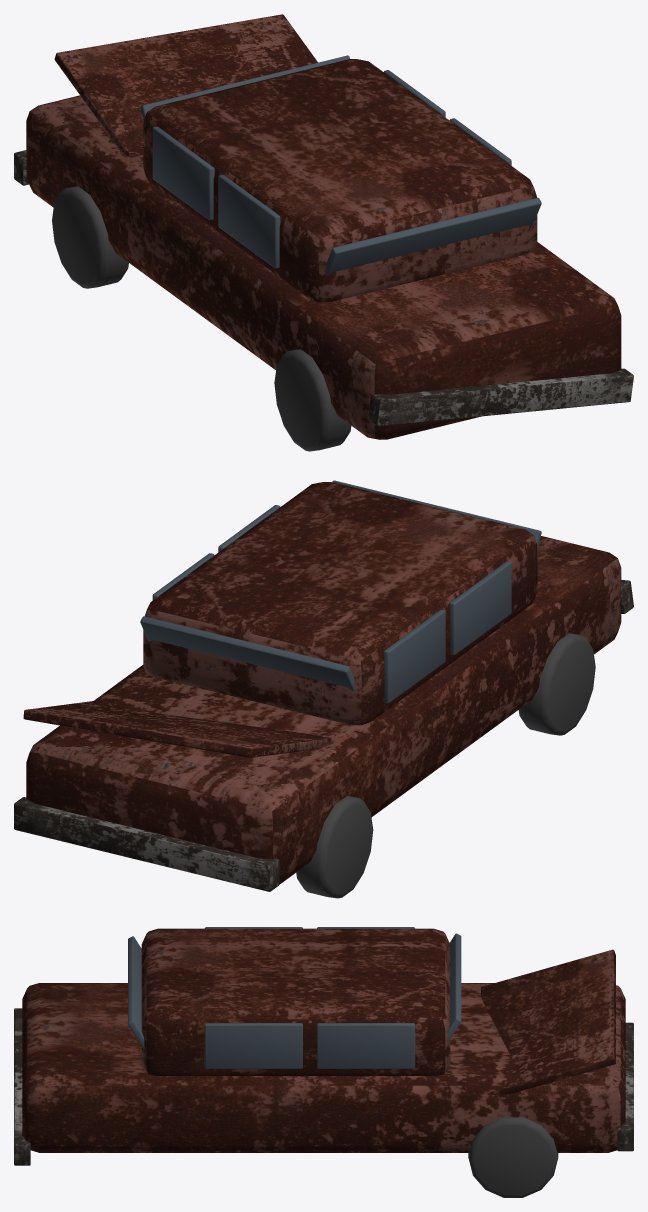
Rendered from prop_car_wreck.glb.
3 renders of one model, top to bottom at view 1: azimuth 30°, elevation 25°; view 2: azimuth 150°, elevation 25°; view 3: azimuth 270°, elevation 25°, orthographic. The views are drawn at different scales.
Parts seen in each view (by area): view 1: Body, Cabin, Hood, BumperR, RearWindow, Tire.002, Tire, SideWin, SideWin.002, Windshield; view 2: Body, Cabin, BumperF, Hood, Tire.002, Tire, Windshield, SideWin, SideWin.002, RearWindow; view 3: Body, Cabin, Hood, Tire.001, SideWin.001, SideWin.003, BumperR, RearWindow, BumperF, Windshield.
Part boxes in pixels (x1,y1,x2,y2): Body: (26,95,621,439); Cabin: (143,59,537,302); Hood: (54,14,317,157); BumperR: (368,368,633,426); RearWindow: (326,198,541,276); Tire.002: (274,349,351,451); Tire: (52,186,128,288); SideWin: (218,174,280,268); SideWin.002: (152,126,214,220); Windshield: (140,55,349,120); Body: (26,536,621,884); Cabin: (143,482,537,725); BumperF: (14,797,279,891); Hood: (23,701,331,757); Tire.002: (518,633,595,735); Tire: (296,796,373,898); Windshield: (140,616,354,691); SideWin: (449,561,511,655); SideWin.002: (383,609,445,703); RearWindow: (332,480,541,548); Body: (22,983,625,1152); Cabin: (141,928,450,1075); Hood: (481,949,615,1094); Tire.001: (468,1117,558,1197); SideWin.001: (204,1023,302,1068); SideWin.003: (317,1023,415,1068); BumperR: (14,1008,30,1165); RearWindow: (128,936,144,1048); BumperF: (617,1022,633,1151); Windshield: (447,933,461,1042).
Size of the model in its own units: 1.92 by 1.37 by 4.42.
Materials: 4 (2 with a texture image).
